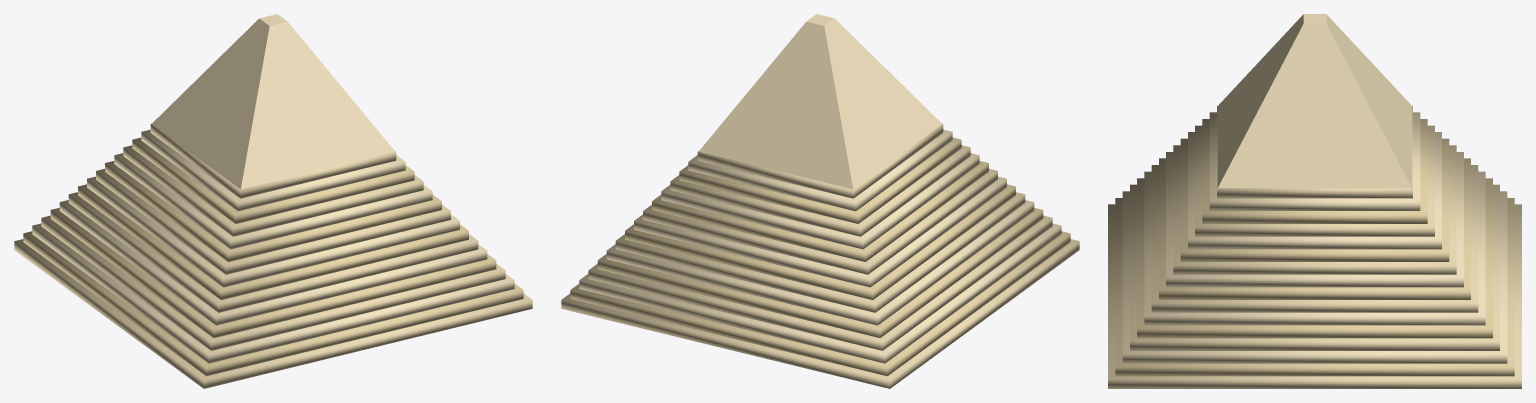
The picture shows the model from 3 angles, left to right: view 1: azimuth 30°, elevation 25°; view 2: azimuth 150°, elevation 25°; view 3: azimuth 270°, elevation 25°; orthographic projection. The views are drawn at different scales.
Parts seen in each view (by area): view 1: pyrbg; view 2: pyrbg; view 3: pyrbg.
Boxes of the visible parts, left/top/right/bottom form: pyrbg: left=14, top=14, right=532, bottom=388; pyrbg: left=561, top=14, right=1079, bottom=388; pyrbg: left=1108, top=14, right=1521, bottom=388.
Bounding box in the file's own units: 58.35 × 46.34 × 58.35.
